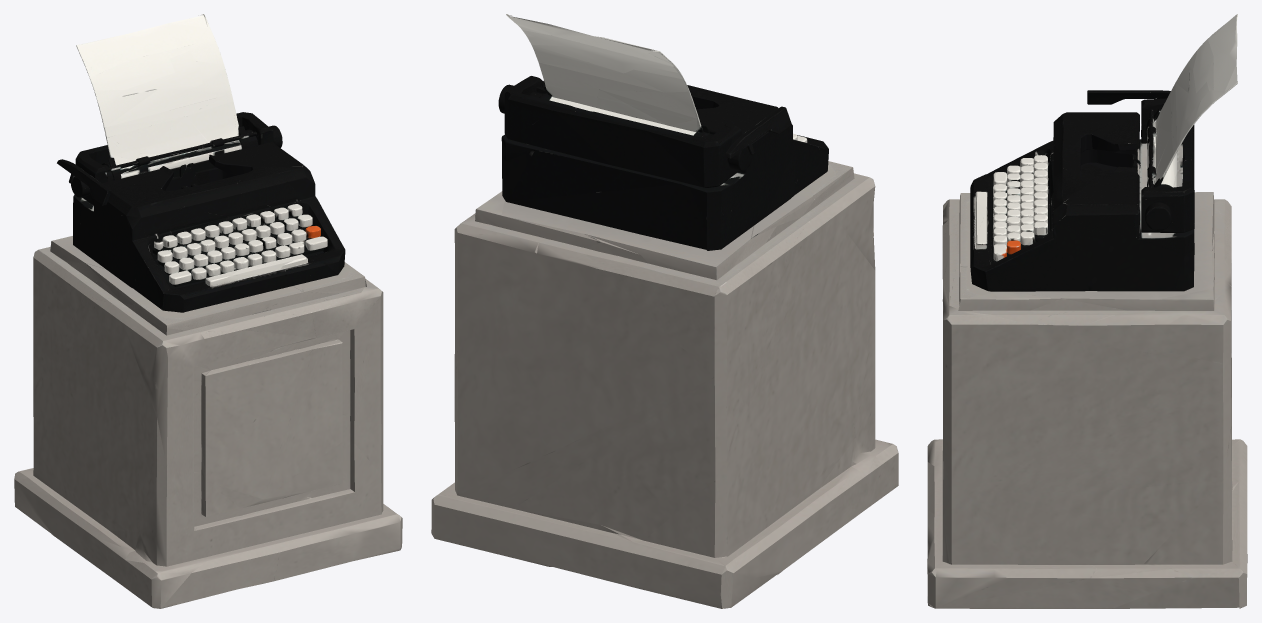
Rendered from medium.glb.
3 views of the same model, side by side, from view 1: azimuth 30°, elevation 25°; view 2: azimuth 150°, elevation 25°; view 3: azimuth 270°, elevation 25° (orthographic). The views are drawn at different scales.
Size of the model in its own units: 1.12 by 1.9 by 1.12.
1 material, 1 textured.
